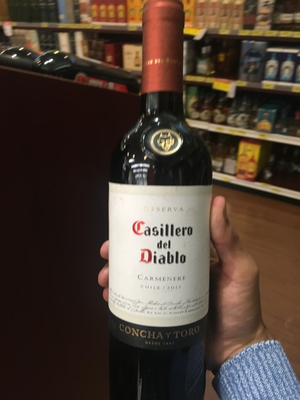casillero del diablo carmenere: (89, 32, 222, 400)
